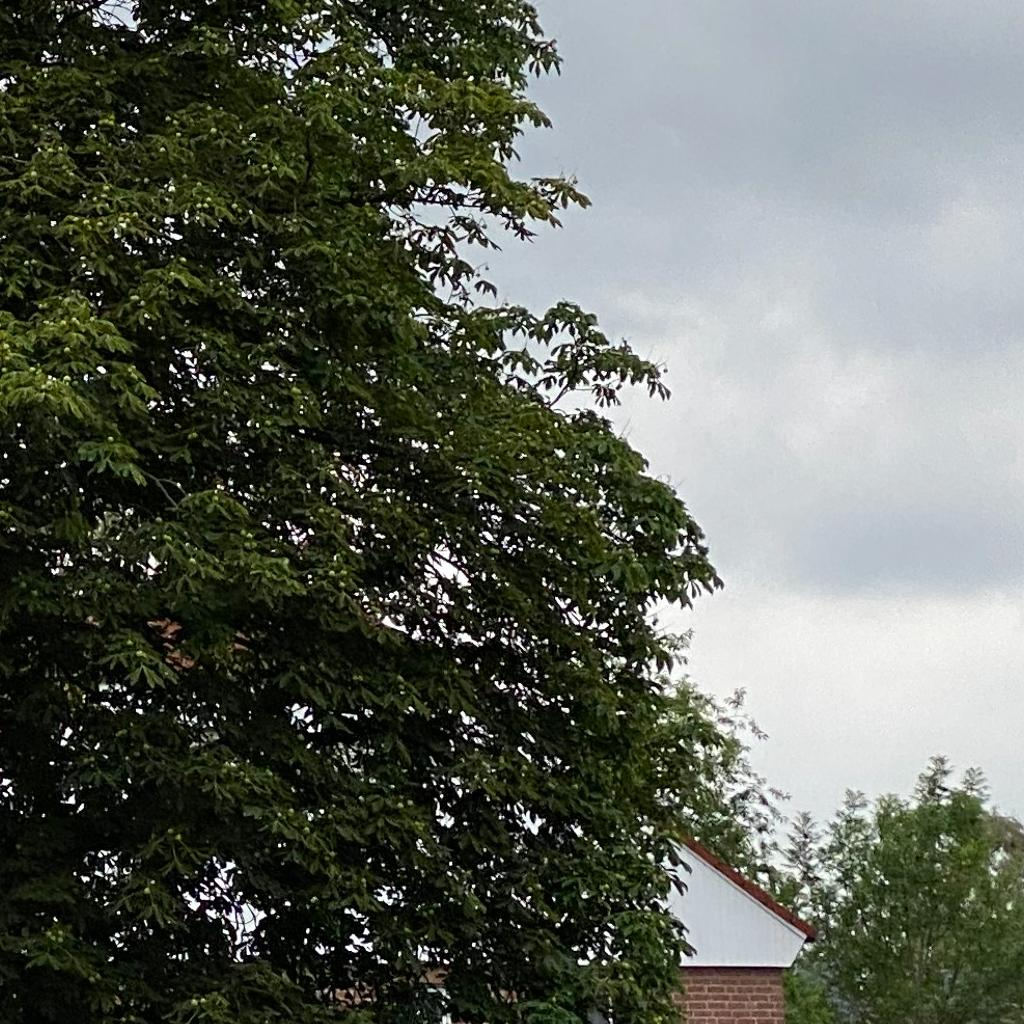tree: (1, 1, 729, 1024), (782, 759, 1023, 1023), (648, 672, 805, 915)
